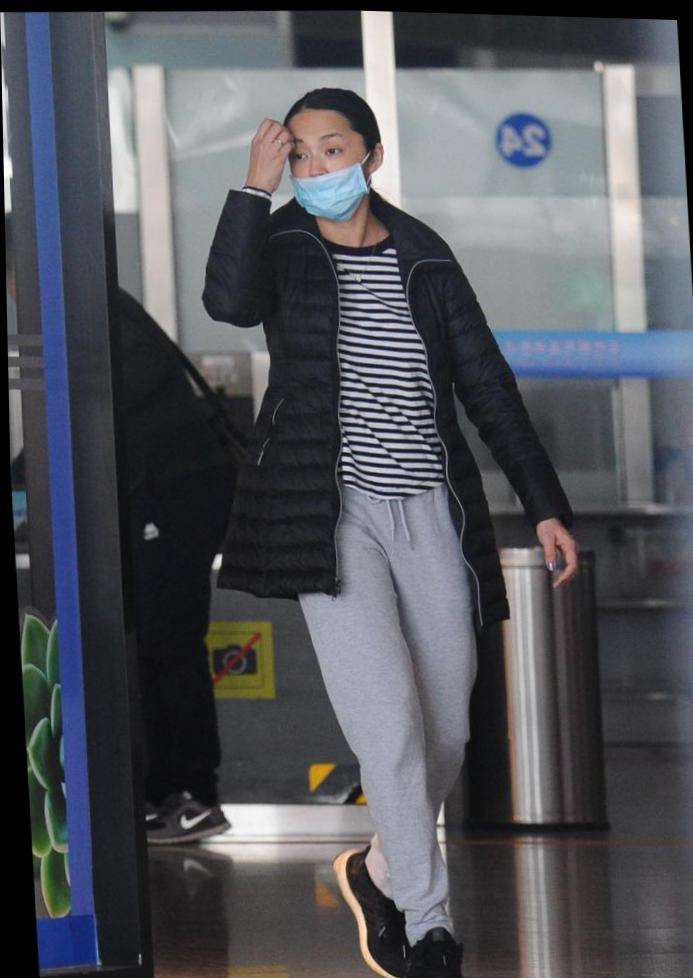WRONG: (287, 119, 363, 220)
